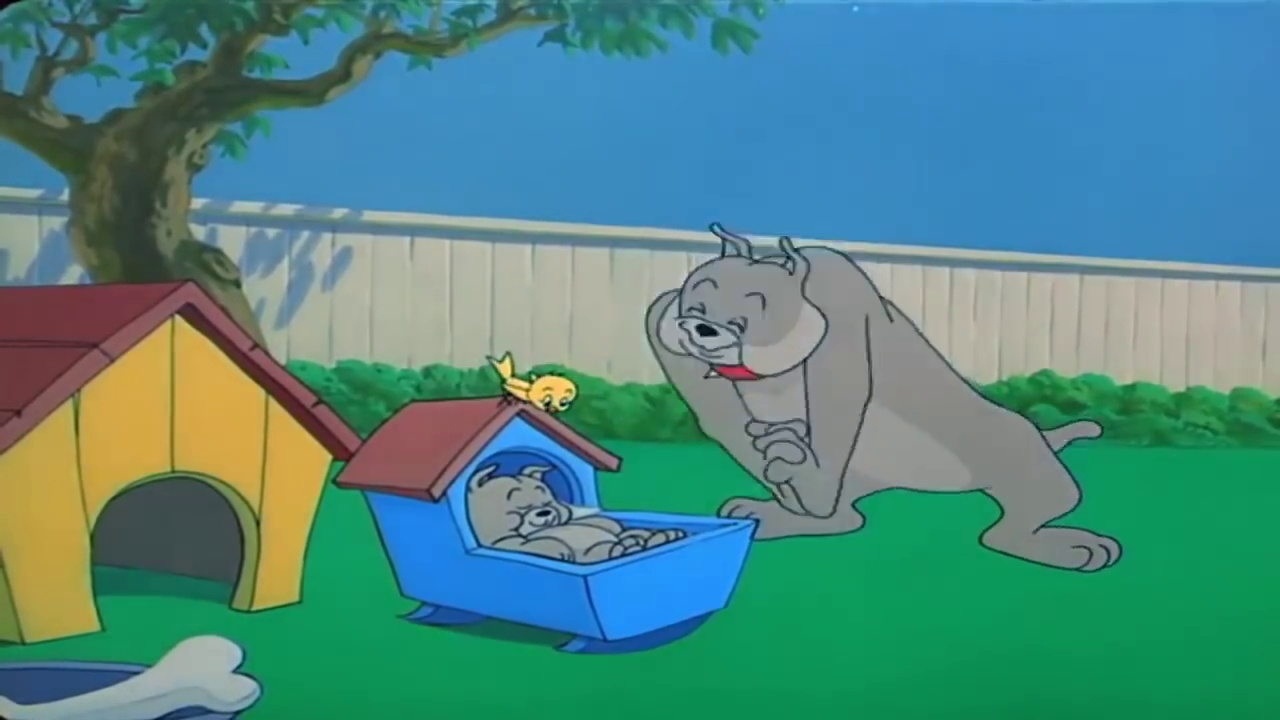spike: (653, 221, 829, 383)
